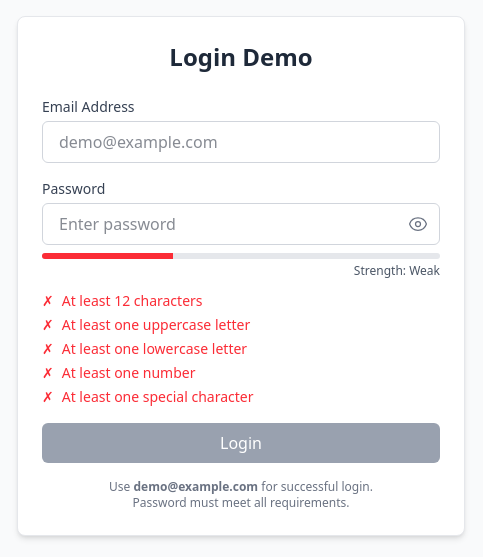
LoginDemo › submit button is enabled when form is valid
The width and height of the screenshot is (483, 557).
Type "test@example.com" into the field labelled "Email Address" at point(241, 142), box [42,121,440,163]
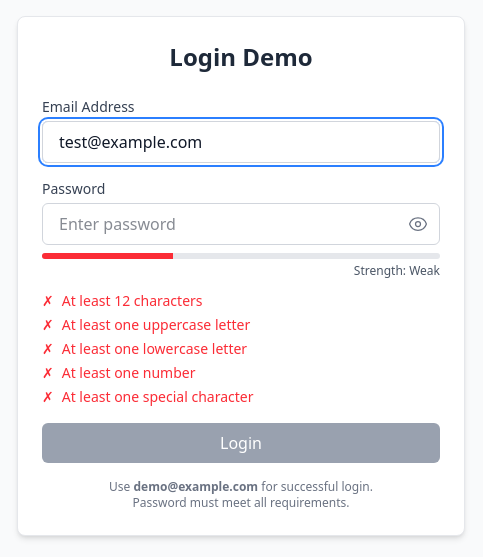
Type "ValidPass123!" into the password field labelled "Enter password" at point(241, 224), box [42,203,440,245]
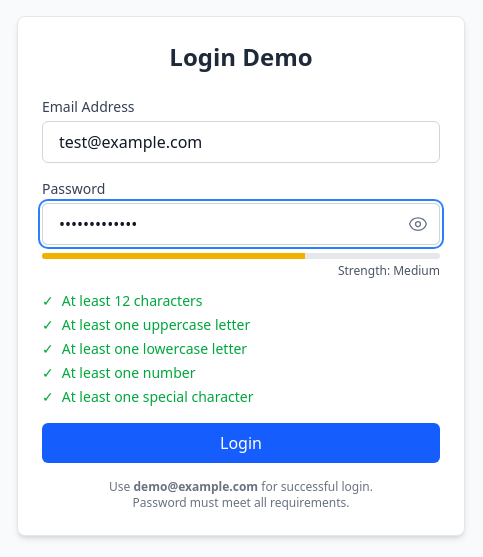
Expected: the button "Login" is enabled, [42,423,440,463]
